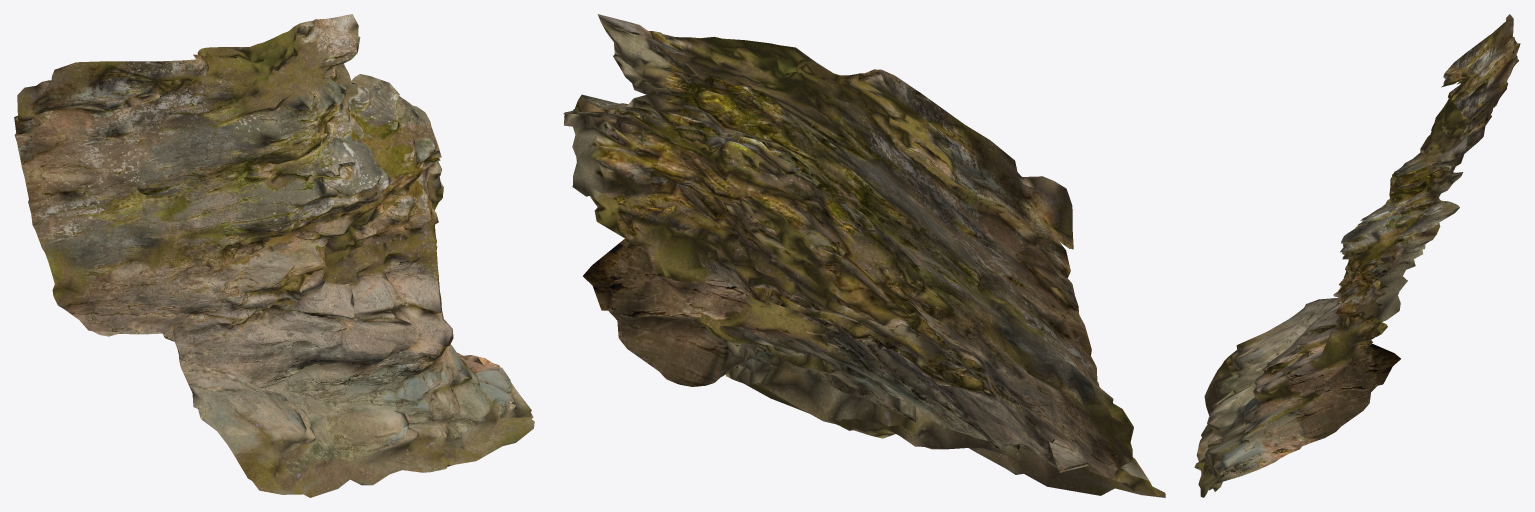
File: rock_face_02.glb
3 renders of one model, left to right at view 1: azimuth 30°, elevation 25°; view 2: azimuth 150°, elevation 25°; view 3: azimuth 270°, elevation 25°, orthographic. The views are drawn at different scales.
Parts seen in each view (by area): view 1: rock_face_02; view 2: rock_face_02; view 3: rock_face_02.
Part boxes in pixels (box(x1,y1,x2,y2)): rock_face_02: box(14, 14, 534, 497); rock_face_02: box(563, 14, 1165, 497); rock_face_02: box(1194, 14, 1520, 497).
Bounding box in the file's own units: 2.71 × 2.47 × 2.13.
1 material, 1 textured.
